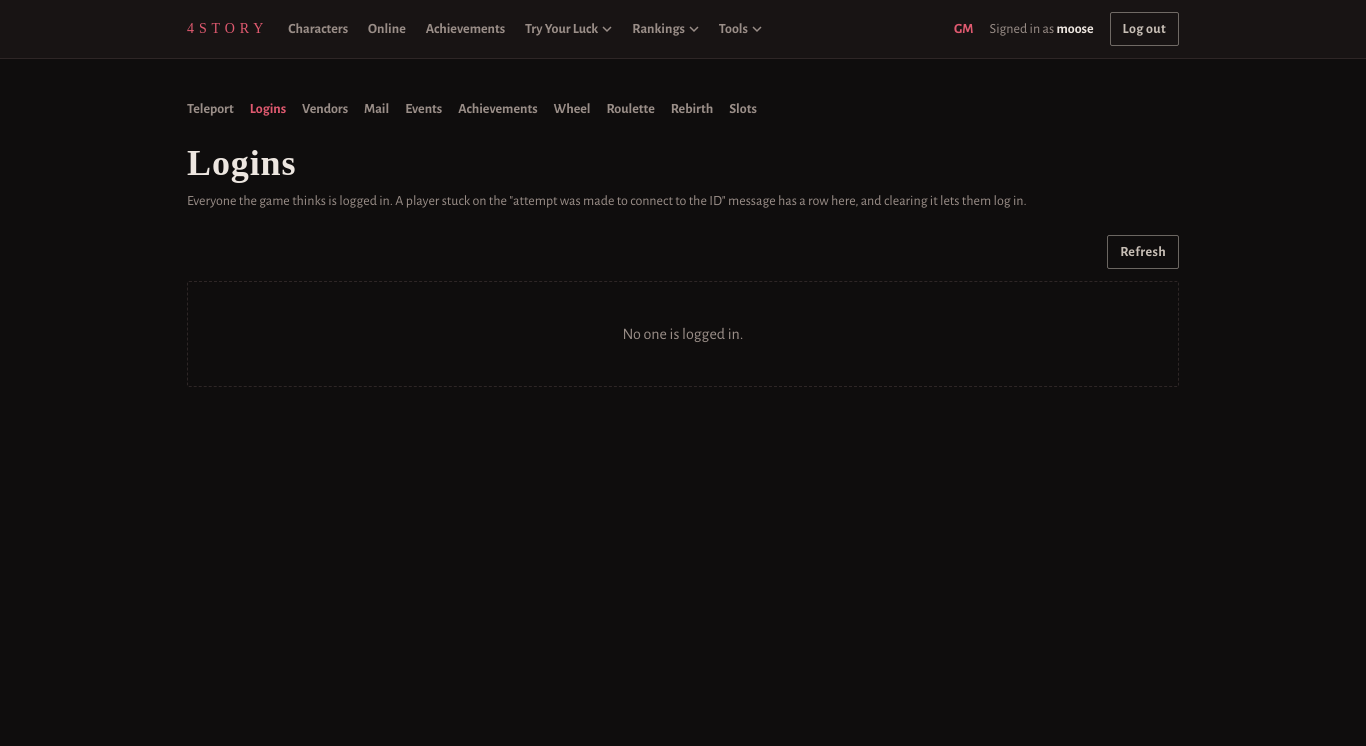
Test: GM rebirth page › is in the GM menu
Click the link "Rebirth". click: point(692, 109)
box: top-left (671, 99), bottom-right (713, 119)
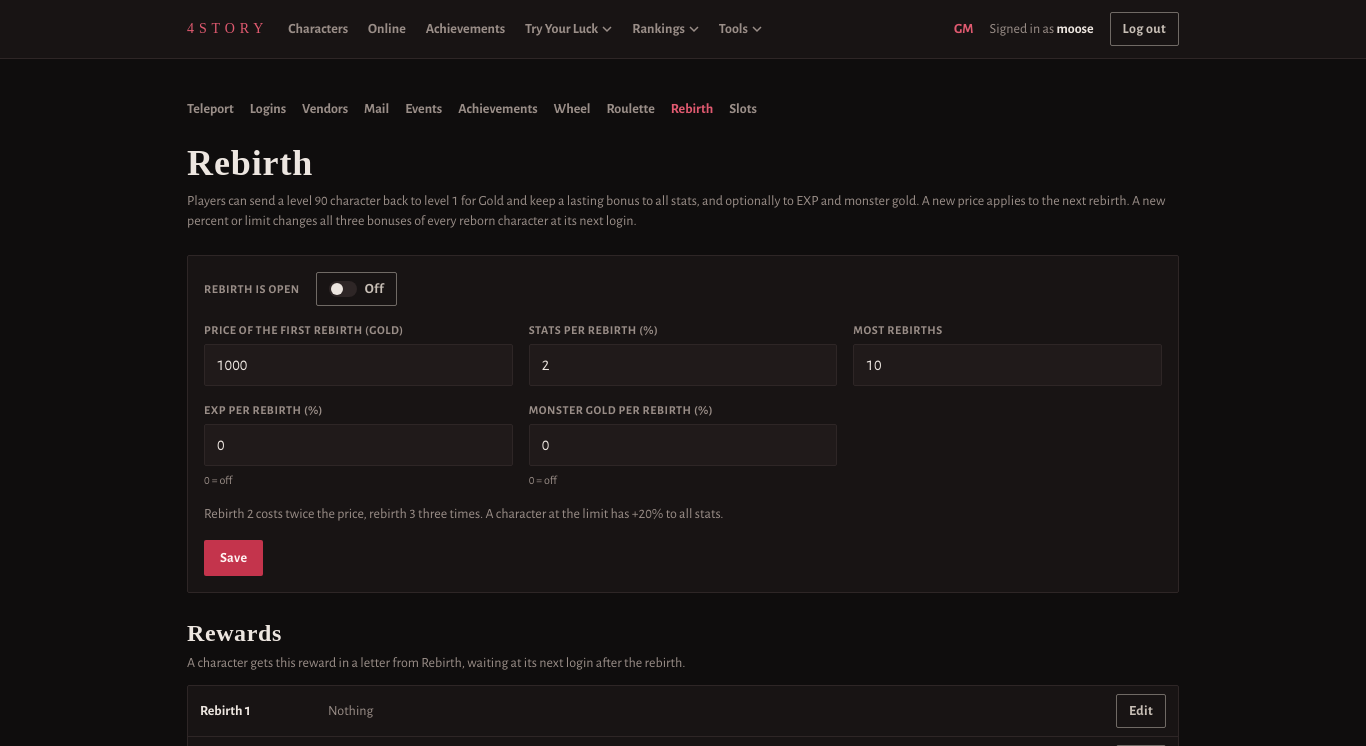
Expected: the heading "Rebirth" is shown, top-left (187, 143), bottom-right (313, 183)
